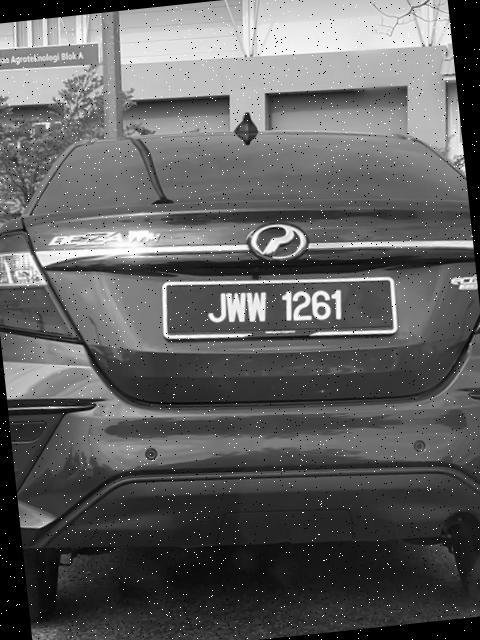JWW1261: (162, 258, 401, 359)
License_Plate: (162, 258, 401, 359)
